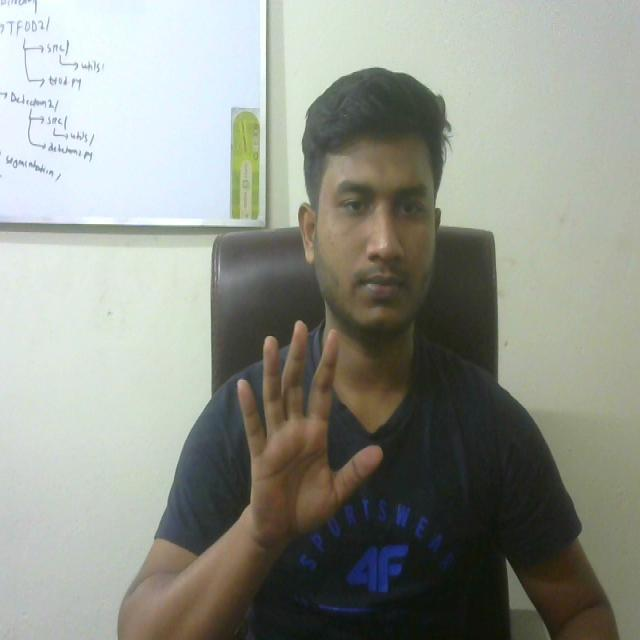Hello: (211, 306, 389, 563)
